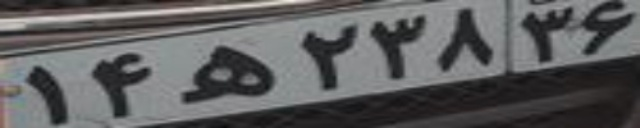1: (23, 64, 66, 123)
2: (297, 24, 360, 90)
3: (367, 16, 431, 80), (519, 6, 572, 65)
4: (87, 51, 151, 117)
6: (579, 0, 632, 54)
8: (439, 8, 503, 73)
he: (175, 44, 274, 104)
